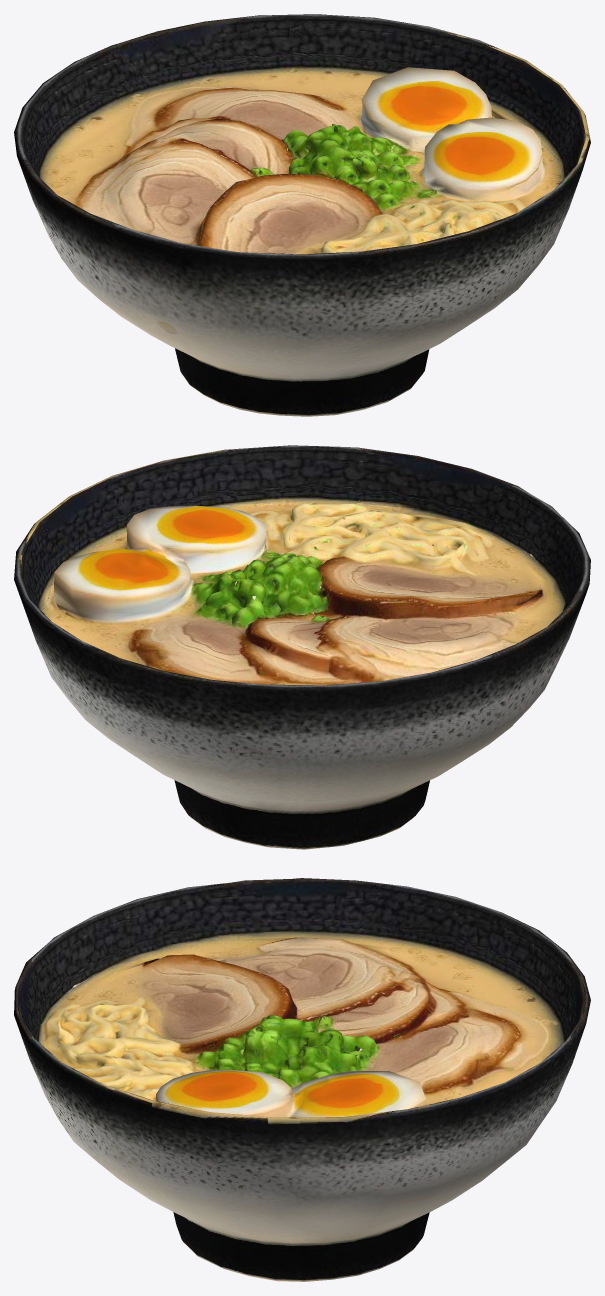
File: ramen.glb
The picture shows the model from 3 angles, top to bottom: view 1: azimuth 30°, elevation 25°; view 2: azimuth 150°, elevation 25°; view 3: azimuth 270°, elevation 25°; orthographic projection.
Visible parts, largest first — view 1: Mesh0; view 2: Mesh0; view 3: Mesh0.
Part boxes in pixels (box(x1,y1,x2,y2)): Mesh0: box(14, 14, 590, 416); Mesh0: box(14, 445, 590, 849); Mesh0: box(14, 878, 590, 1281).
Bounding box in the file's own units: 0.2265 × 0.1016 × 0.2265.
1 material, 1 textured.
